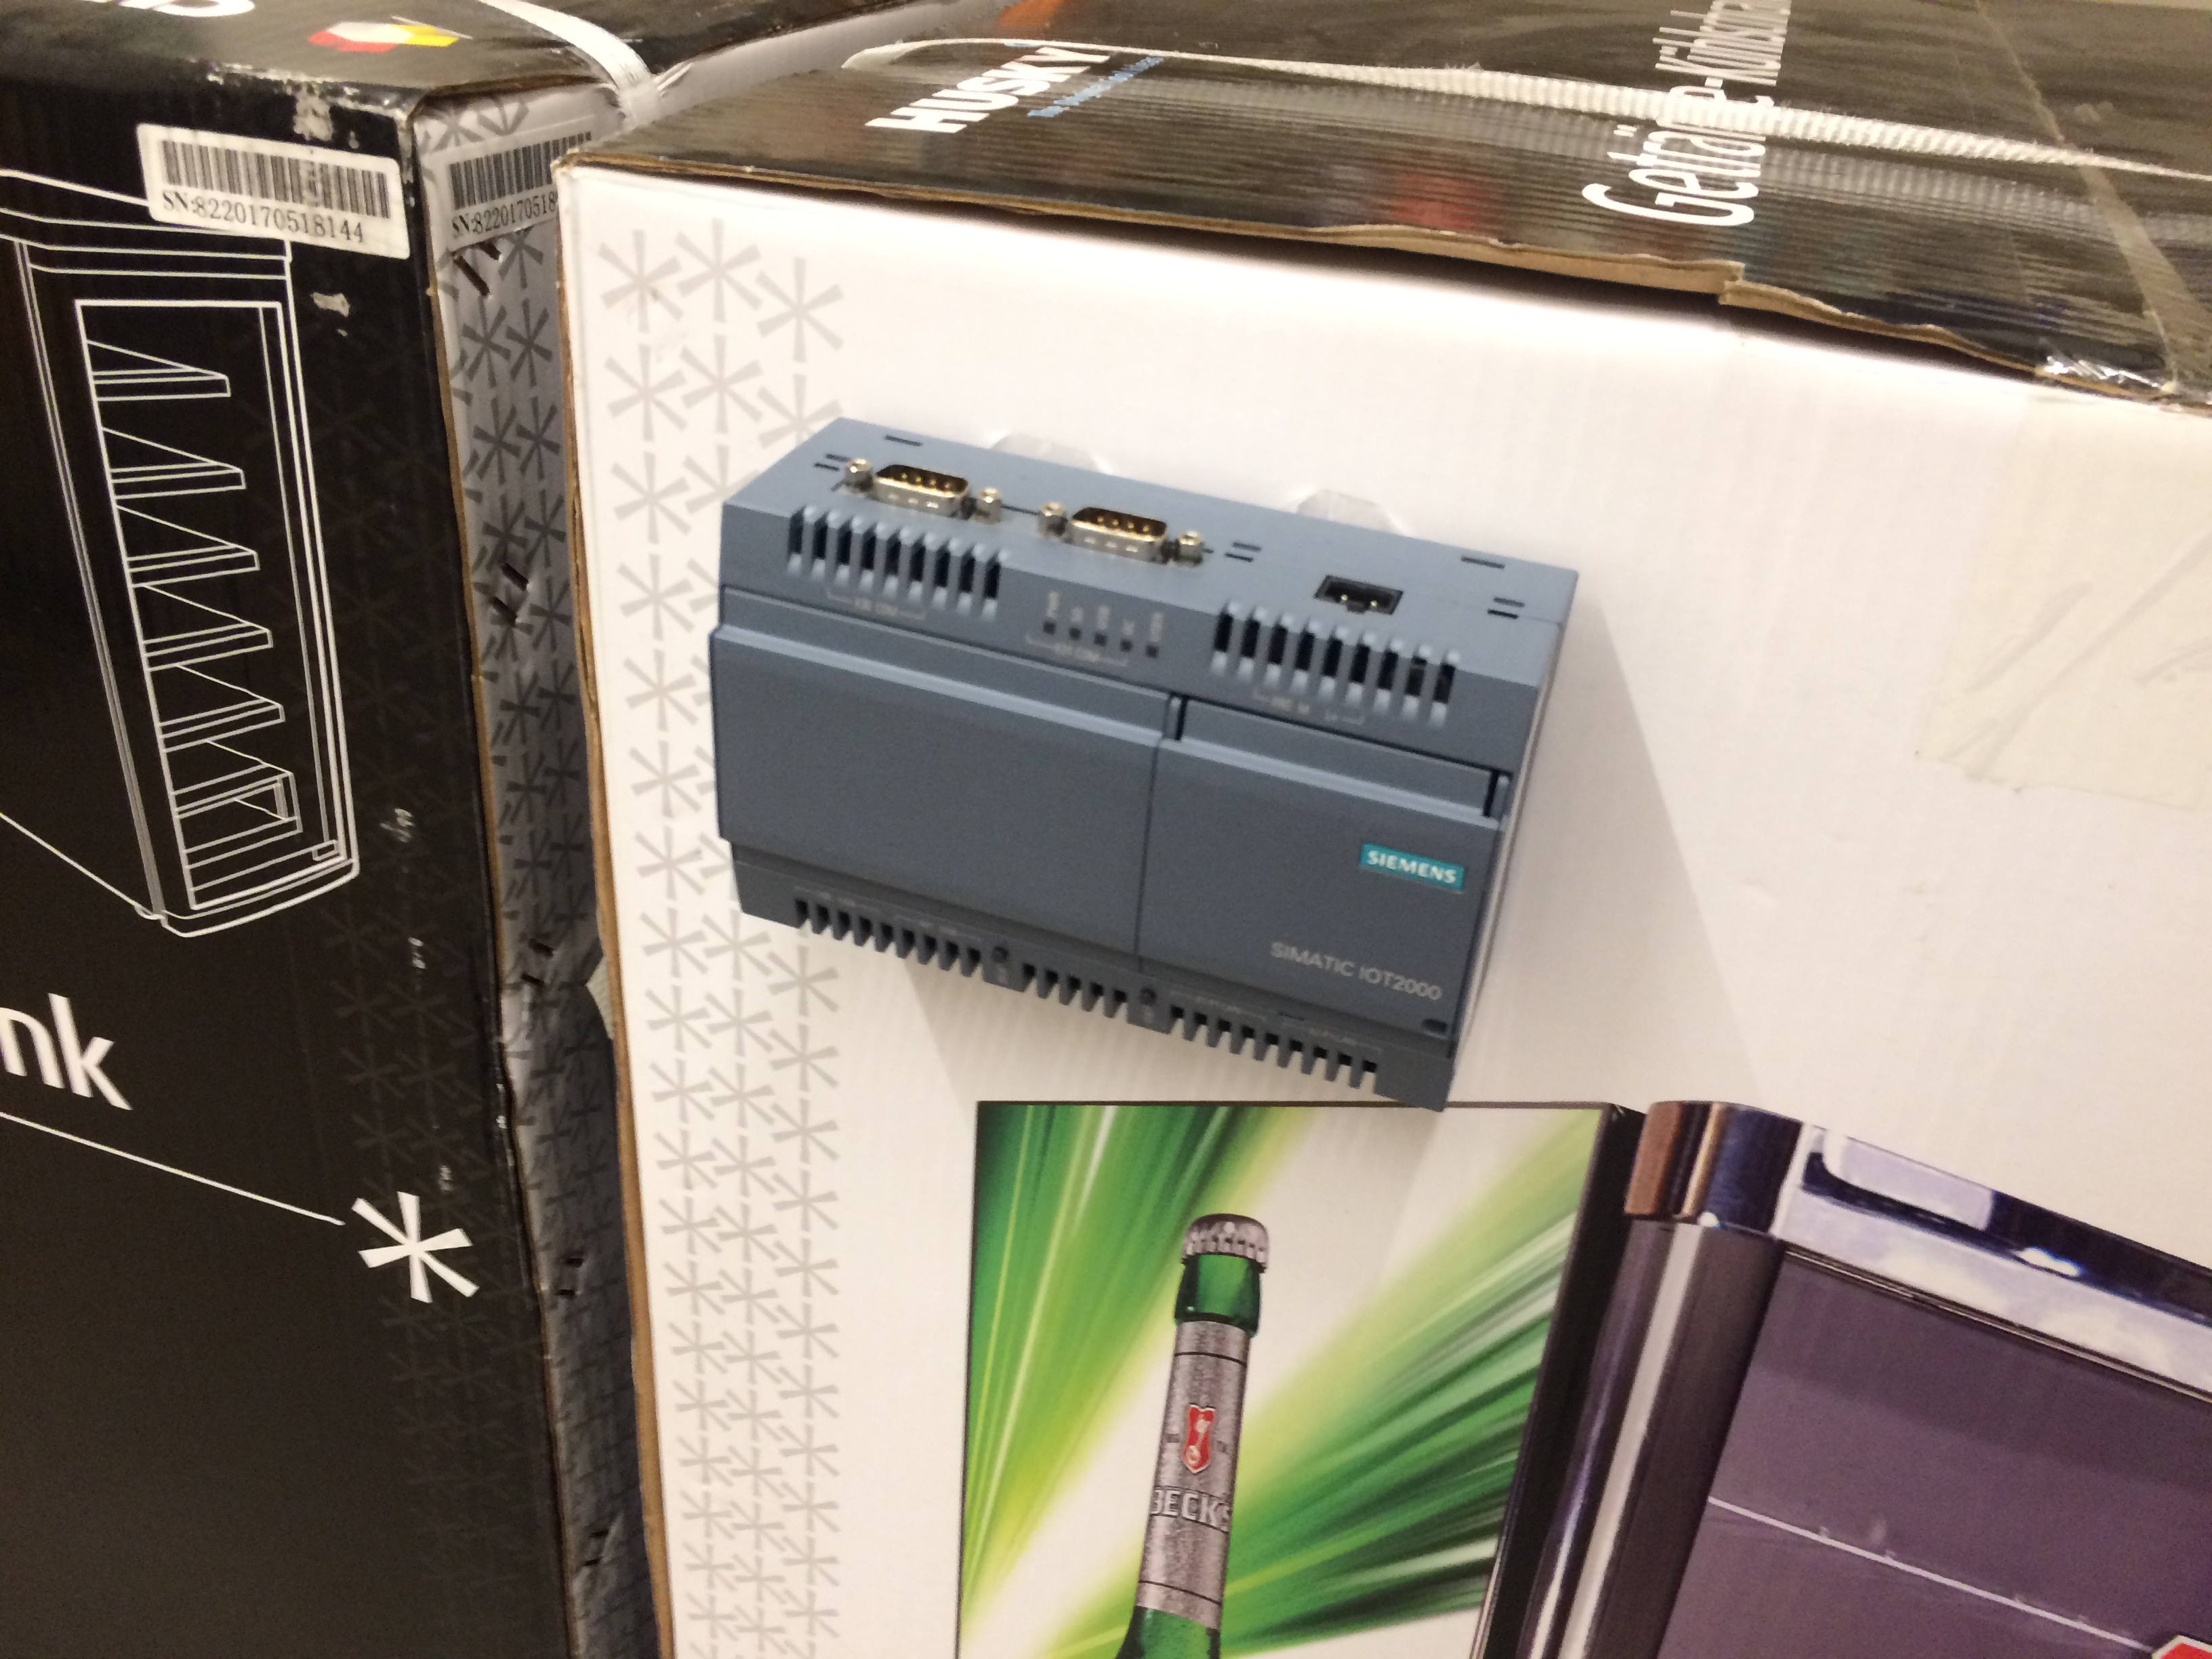iot2000: (705, 413, 1581, 1119)
